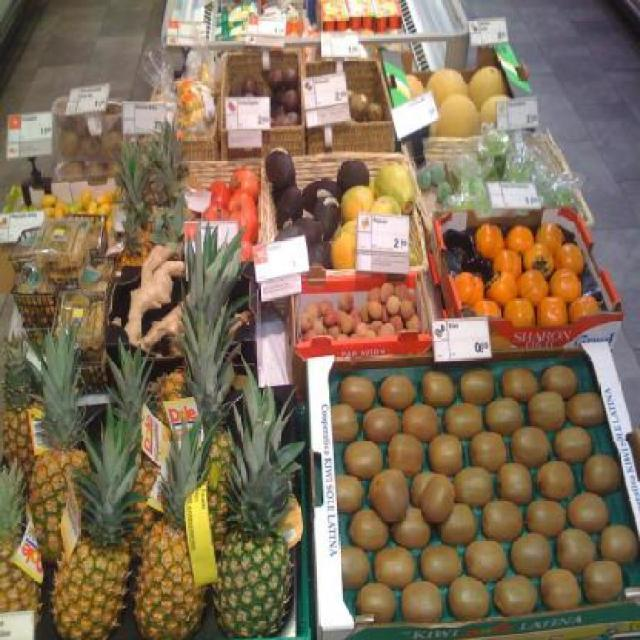Pineapple: (1, 217, 305, 640), (113, 107, 199, 270)
